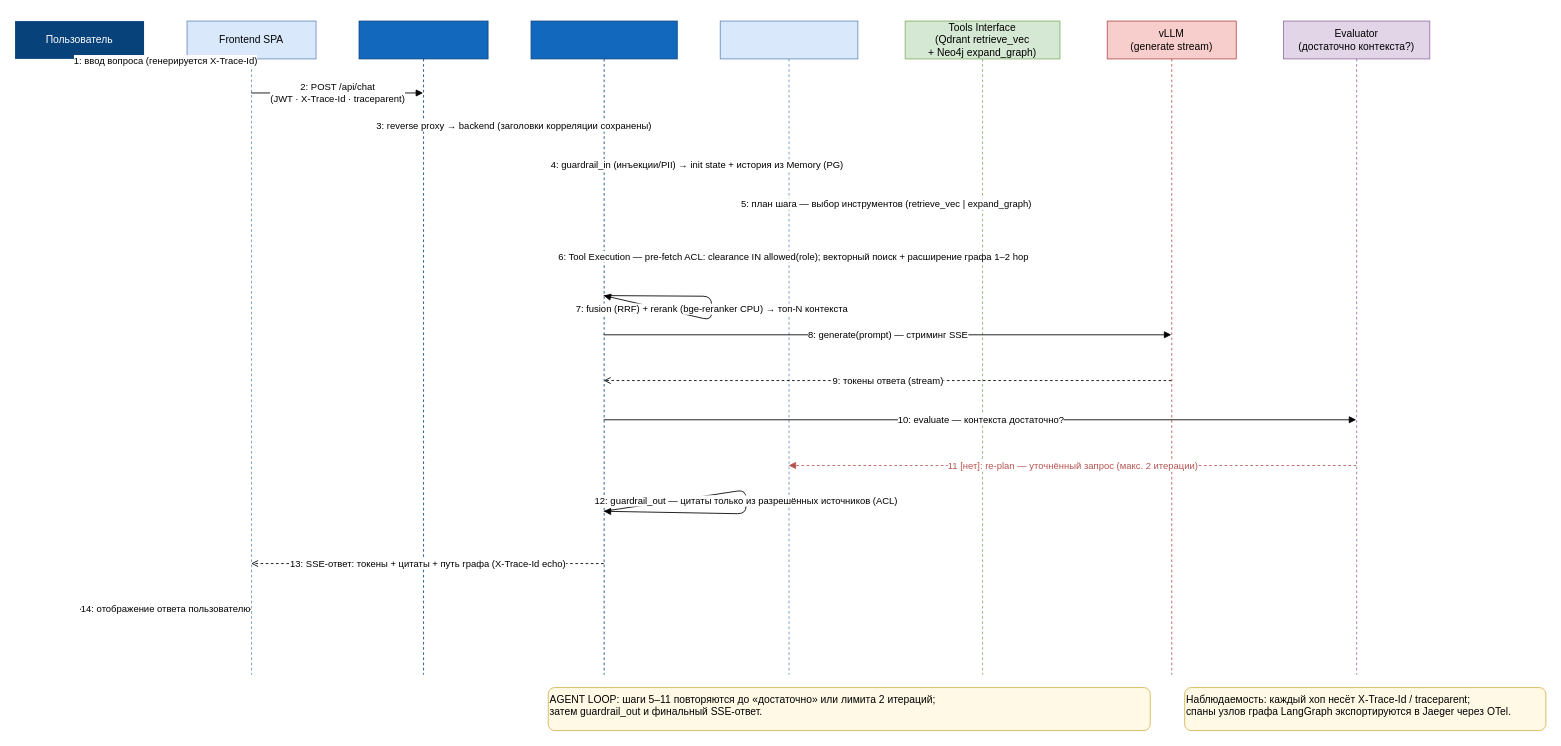
Some shapes in this 1561 by 746 pixel diagram are drawn without their labels. The box of each missing label's shape, as (x1, y1, x2, y2) in pixels:
Backend API (guardrail in/out, fusion+rerank) [LangGraph runner]: (530, 20, 677, 675)
Planner (+ Memory из PG): (719, 20, 858, 675)
Traefik (X-Trace-Id pass): (358, 20, 488, 675)
